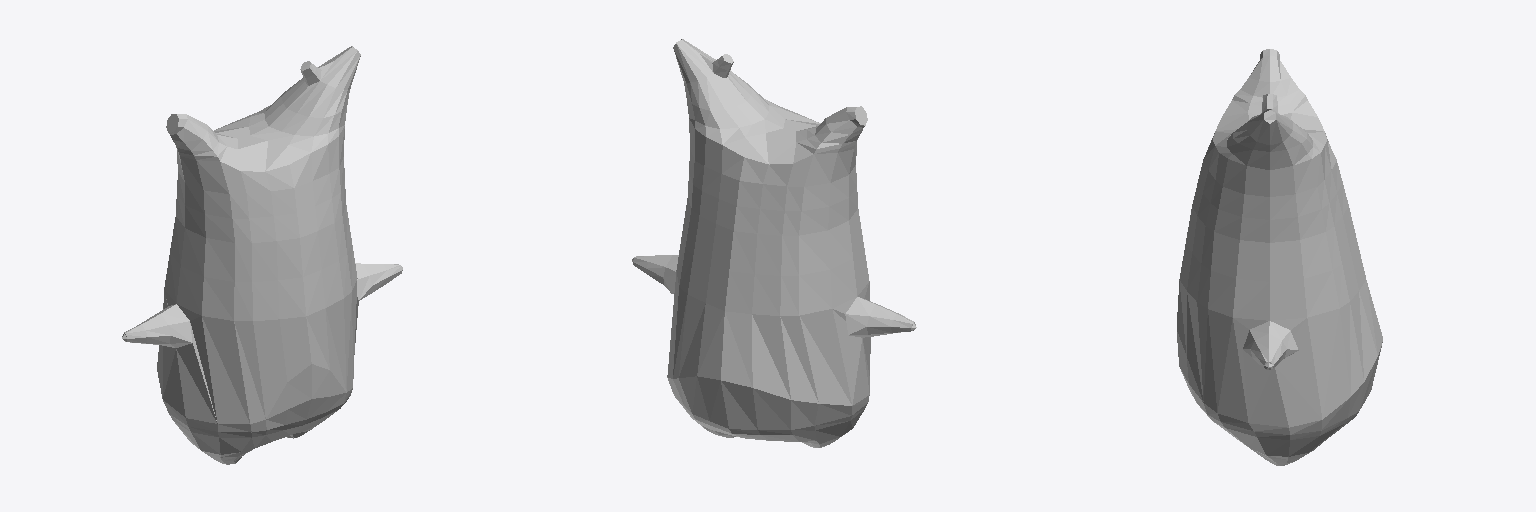
File: frame_0031.obj
3 renders of one model, left to right at view 1: azimuth 30°, elevation 25°; view 2: azimuth 150°, elevation 25°; view 3: azimuth 270°, elevation 25°, orthographic.
Parts seen in each view (by area): view 1: korok; view 2: korok; view 3: korok.
Boxes of the visible parts, <box> form: korok: <box>122,46,402,464</box>; korok: <box>632,39,916,447</box>; korok: <box>1177,49,1382,465</box>.
Bounding box in the file's own units: 1.68 × 2.16 × 1.06.